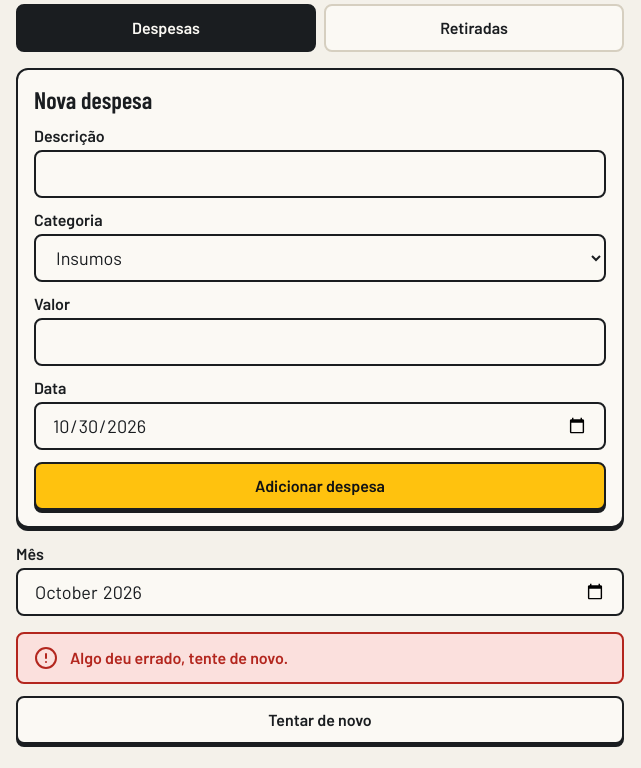
Scenario: Despesas e retiradas › erro ao carregar oferece Tentar de novo
(page scrolled)
Click the button "Tentar de novo": (320, 720) x1=16 y1=696 x2=624 y2=744
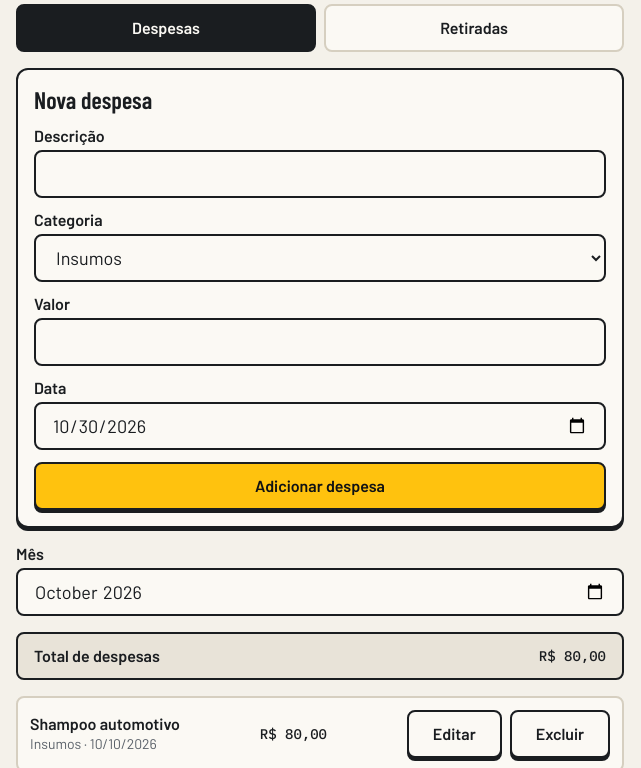
Expected: the text "Shampoo automotivo" is shown, x1=30 y1=714 x2=180 y2=734
